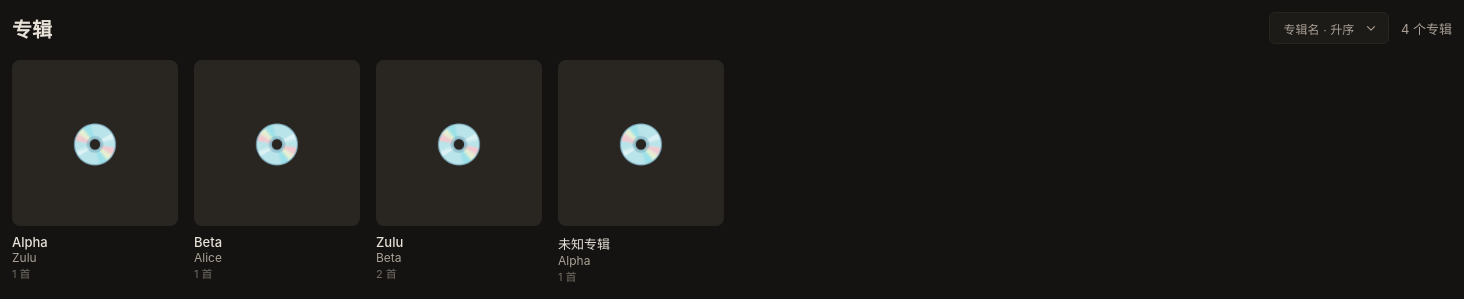
Albums › 选择歌手后应该按代表歌手升序展示卡片
Step 1. Click the button "专辑名 · 升序" → (1329, 28), box [1269,12,1389,44]
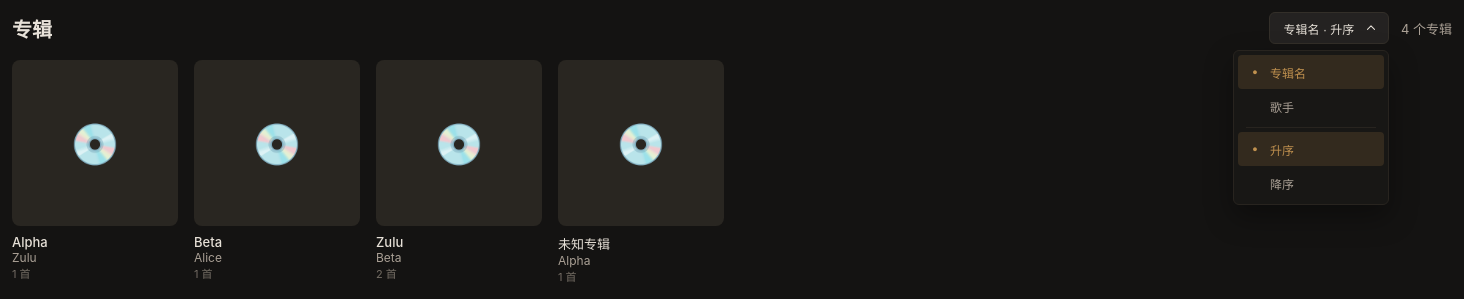
Step 2. Click the menu item "歌手" → (1311, 106), box [1238,89,1384,123]
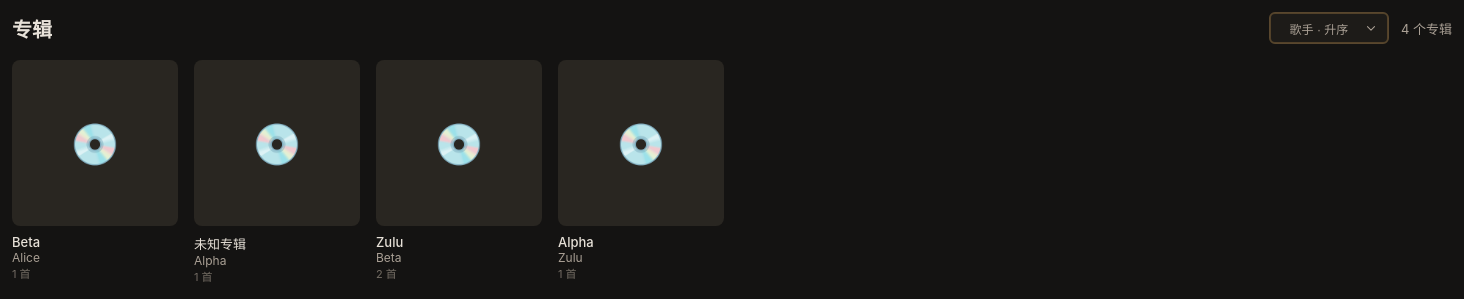
Result: the button "歌手 · 升序" is shown at [1269,12,1389,44]
